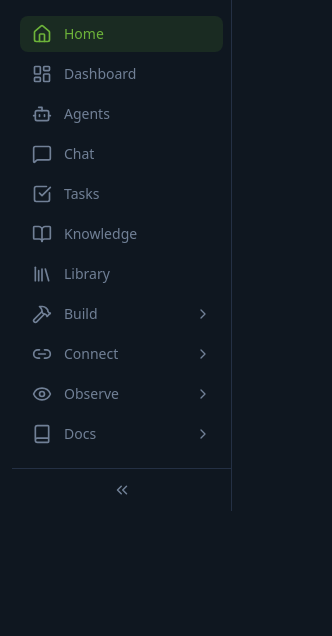
Test: Sidebar › T3: Build group contains Skills, Workflows, MCP Servers
Click the button "Build".
click(122, 314)  # box [20, 296, 223, 332]
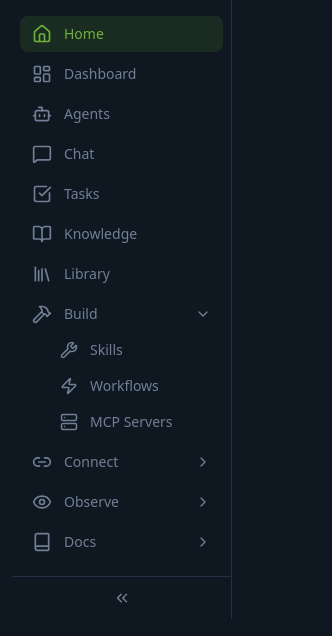
Check: the link "Skills" is shown, box [60, 340, 123, 359]
Check: the link "Workflows" is shown, box [60, 376, 159, 395]
Check: the link "MCP Servers" is shown, box [60, 412, 172, 431]
